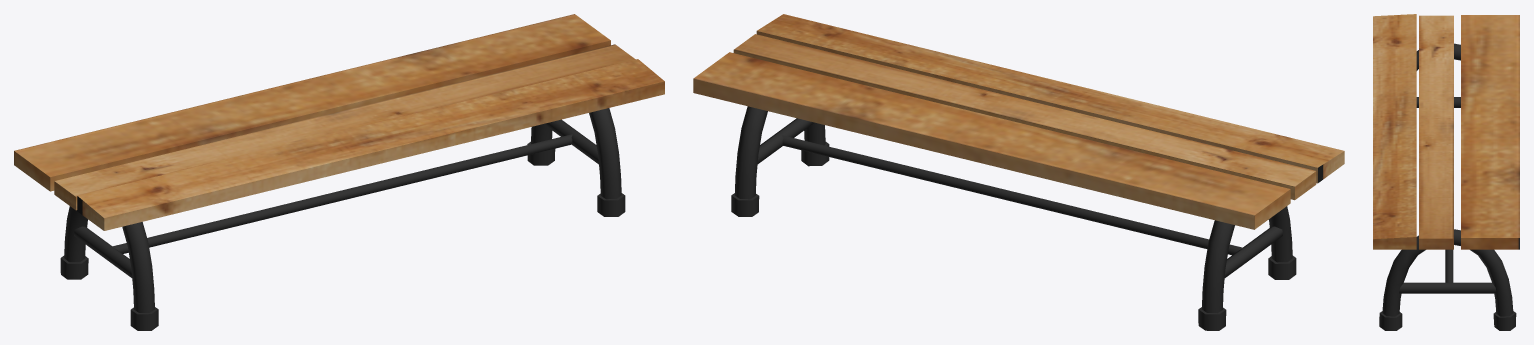
The model's file is Bench.FBX.
The picture shows the model from 3 angles, left to right: view 1: azimuth 30°, elevation 25°; view 2: azimuth 150°, elevation 25°; view 3: azimuth 270°, elevation 25°; orthographic projection. The views are drawn at different scales.
Visible parts, largest first — view 1: Bench; view 2: Bench; view 3: Bench.
Part boxes in pixels (left/top/right/bottom): Bench: left=14, top=14, right=664, bottom=330; Bench: left=693, top=14, right=1344, bottom=330; Bench: left=1373, top=14, right=1519, bottom=330.
Size of the model in its own units: 152 by 33.98 by 42.3.
